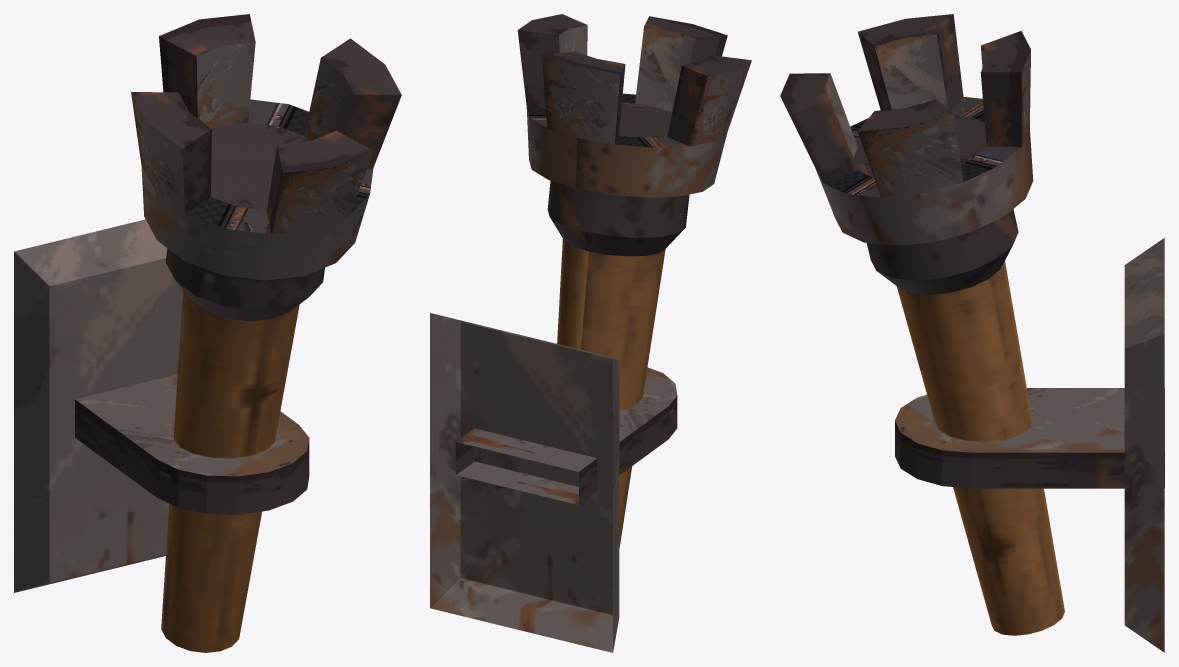
Rendered from BloodRoom_Torch.fbx.
3 renders of one model, left to right at view 1: azimuth 30°, elevation 25°; view 2: azimuth 150°, elevation 25°; view 3: azimuth 270°, elevation 25°, orthographic. The views are drawn at different scales.
Parts seen in each view (by area): view 1: Cylinder.001; view 2: Cylinder.001; view 3: Cylinder.001.
Part boxes in pixels (<box>): Cylinder.001: <box>14,14,401,652</box>; Cylinder.001: <box>430,14,751,652</box>; Cylinder.001: <box>780,14,1164,652</box>.
Size of the model in its own units: 28.65 by 71.05 by 43.03.
